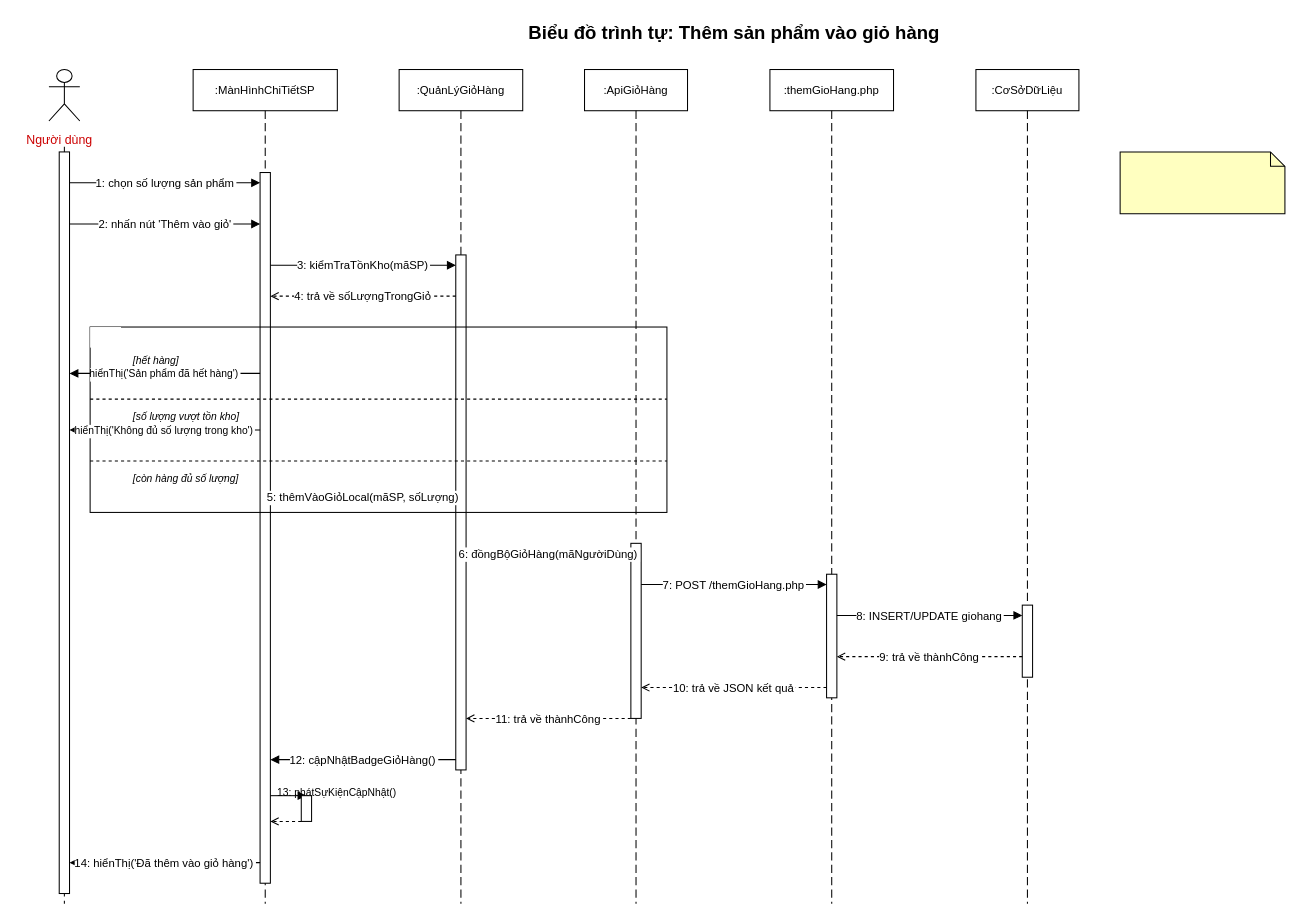
The diagram is 1303 pixels wide and 923 high, and some of its shapes have lost their labels. The shapes that lost their labels are listed below. From the top down, each one's centre as x and y in pixels, then its label:
the point at 1202,182: Biểu đồ UML chuẩn Kiểm tra tồn kho trước khi thêm Đồng bộ với server
the point at 105,337: alt
